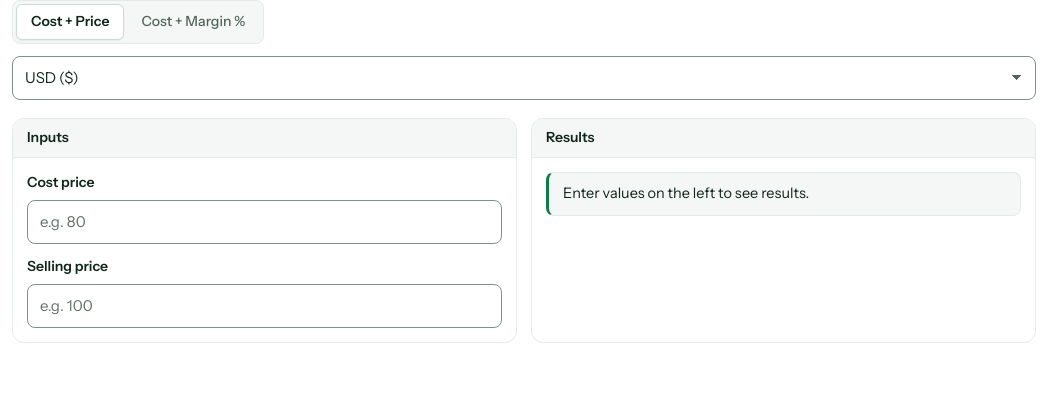
Test: MarginCalculator › shows error for invalid selling price
In the number field with placeholder "e.g. 80": (264, 222) left=27, top=200, right=502, bottom=244, type "80"
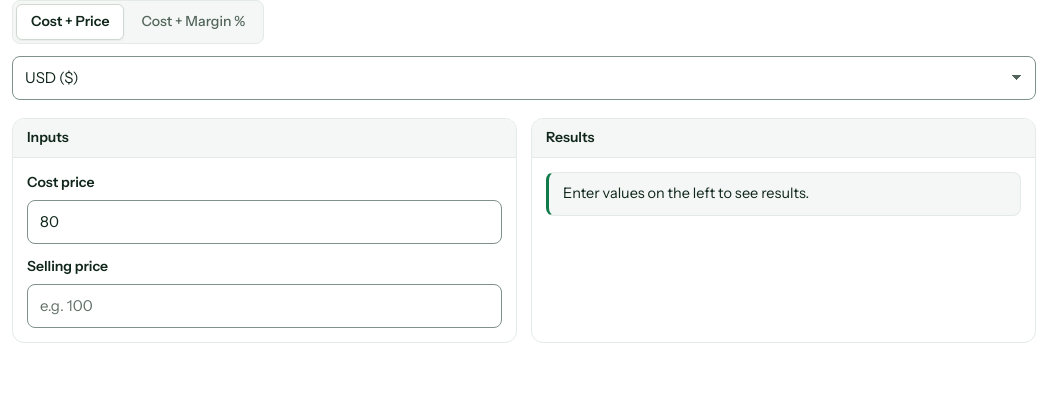
In the number field with placeholder "e.g. 100": (264, 306) left=27, top=284, right=502, bottom=328, type "0"
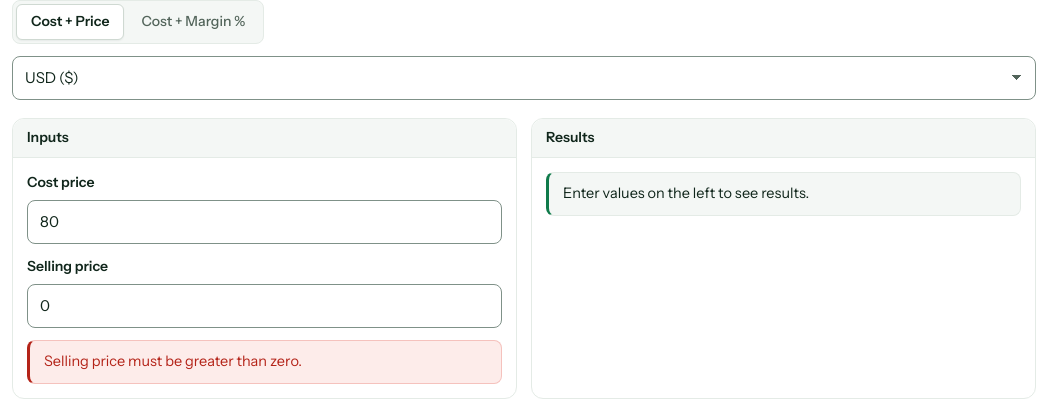
expect the text "Selling price must be greater than zero." is shown: met, box left=27, top=340, right=502, bottom=384
